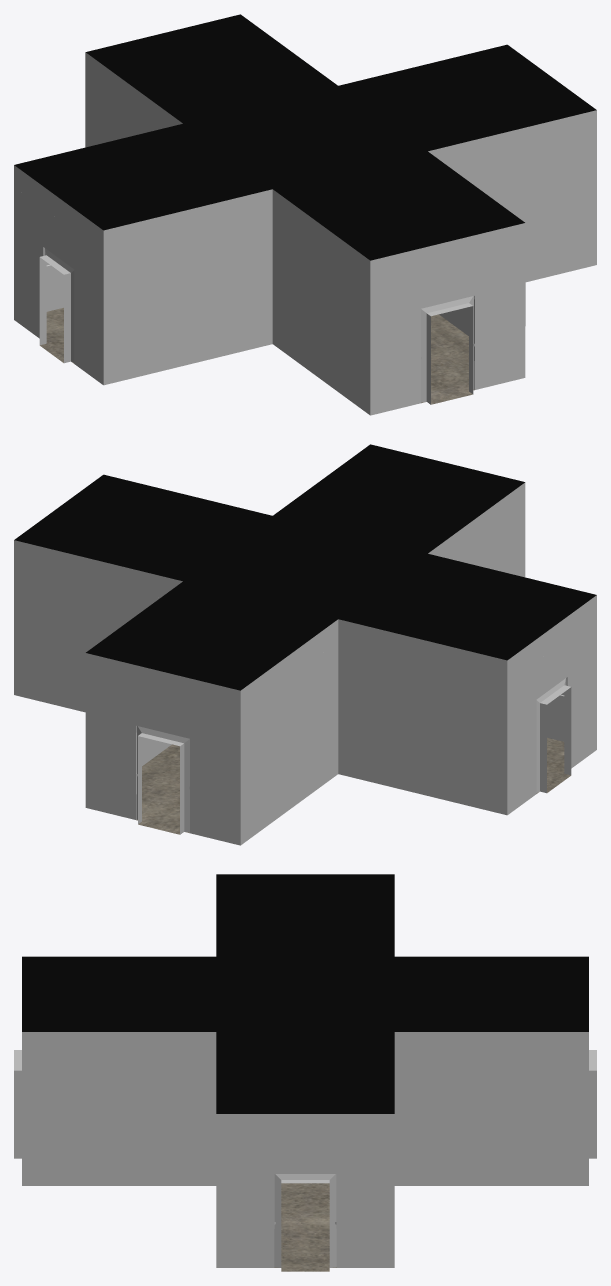
File: X-Intersection_3x3.FBX
The picture shows the model from 3 angles, top to bottom: view 1: azimuth 30°, elevation 25°; view 2: azimuth 150°, elevation 25°; view 3: azimuth 270°, elevation 25°; orthographic projection.
Parts seen in each view (by area): view 1: X-Intersection_3x3; view 2: X-Intersection_3x3; view 3: X-Intersection_3x3.
Part boxes in pixels (x1,y1,x2,y2): X-Intersection_3x3: (14, 14, 596, 415); X-Intersection_3x3: (14, 444, 596, 845); X-Intersection_3x3: (14, 874, 596, 1271).
Size of what is drawn, in the model's own units: 1417 by 413 by 1417.
